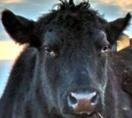muzzles: (61, 87, 102, 116)
